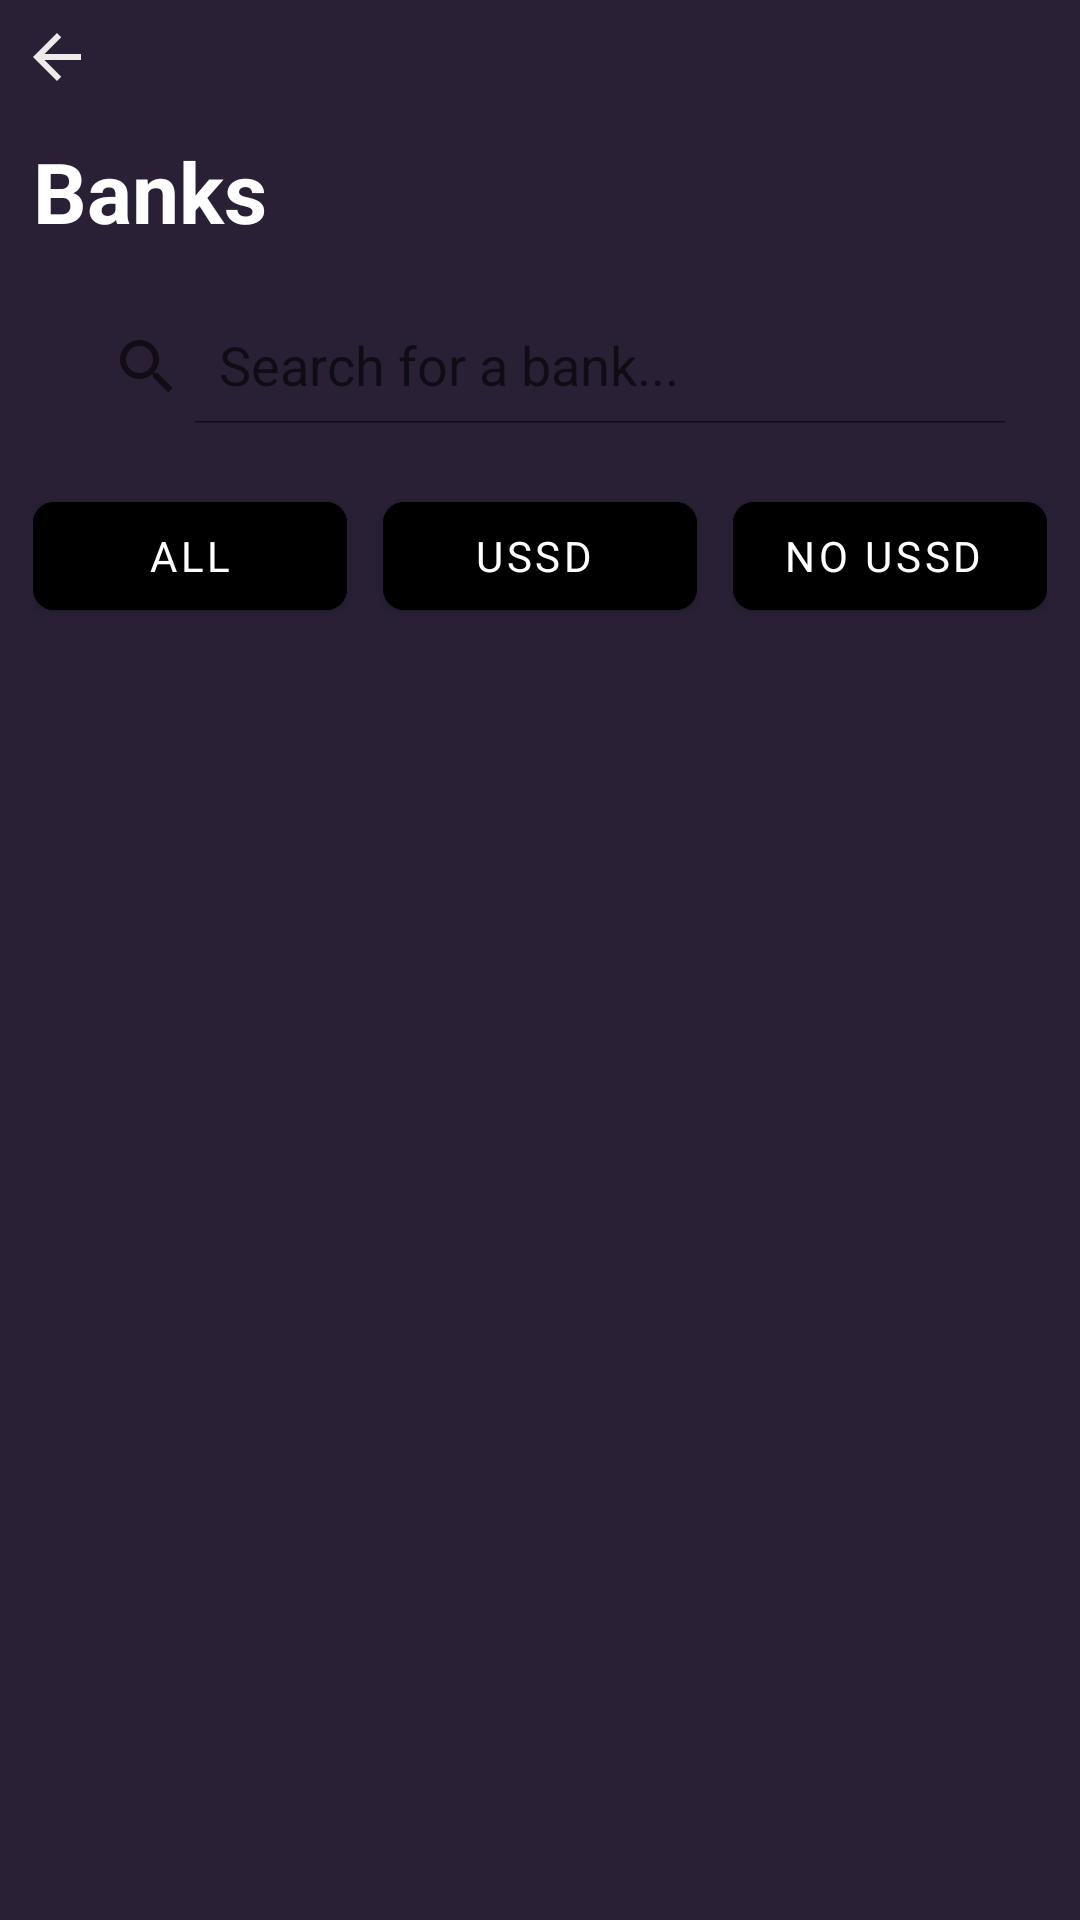

Icons on this 1080 x 1920 Android screen, each with the point to tap as [x,y]:
arrow back: [57,57]
